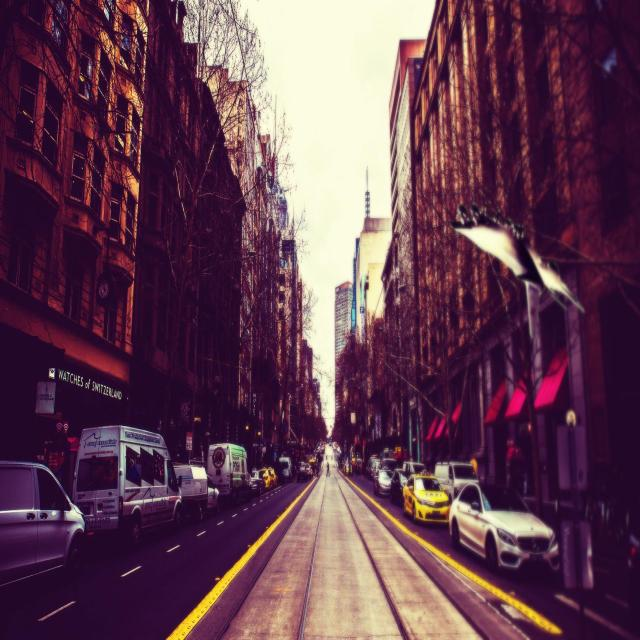airplane: (447, 200, 585, 315)
